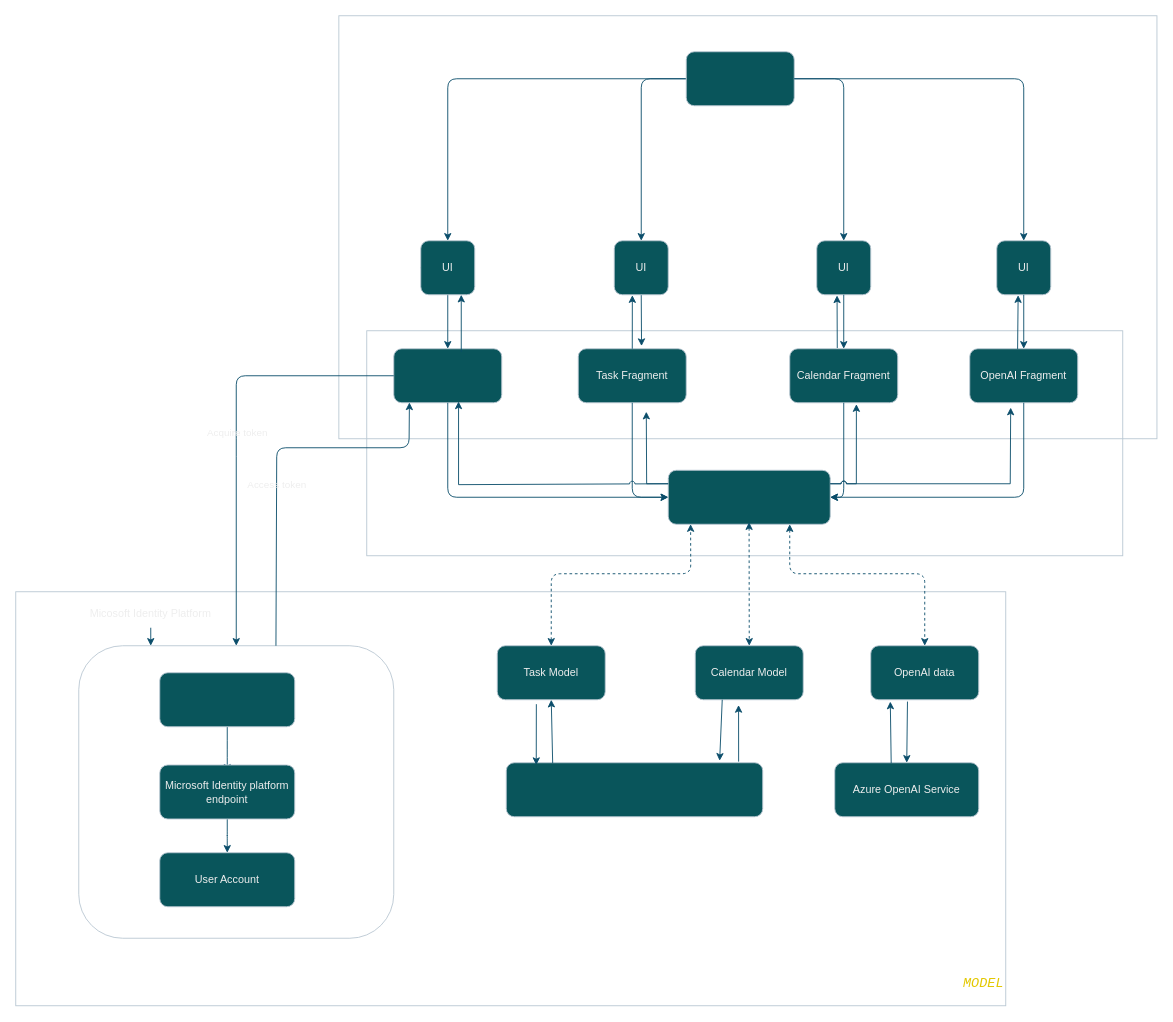
Image size: 1173x1022. Some labels were removed from this diagram. Each missing label, with the box of its shape:
Activity: (685, 51, 794, 106)
CONTROLLER: (366, 330, 1123, 556)
Home Fragment: (393, 348, 502, 403)
Microsoft Authentication Library (MSAL): (159, 672, 295, 727)
Microsoft Graph API Service: (505, 762, 763, 817)
State Holder: (667, 469, 830, 524)
VIEW: (338, 15, 1157, 439)
